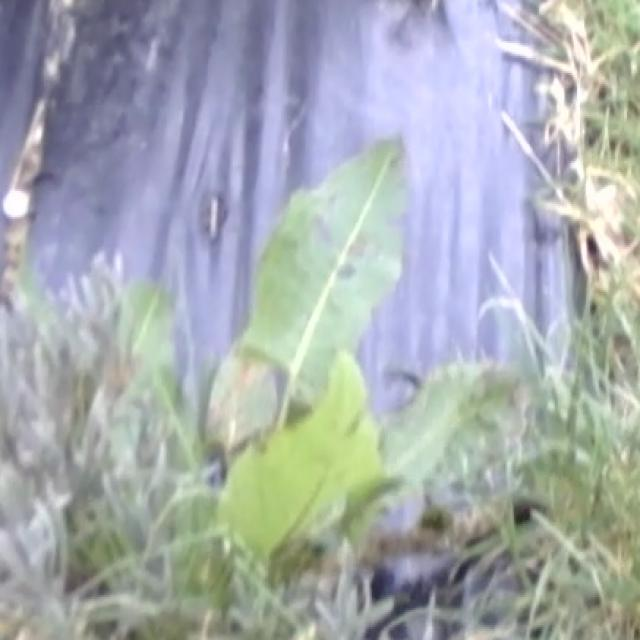organic waste: (173, 171, 532, 548)
